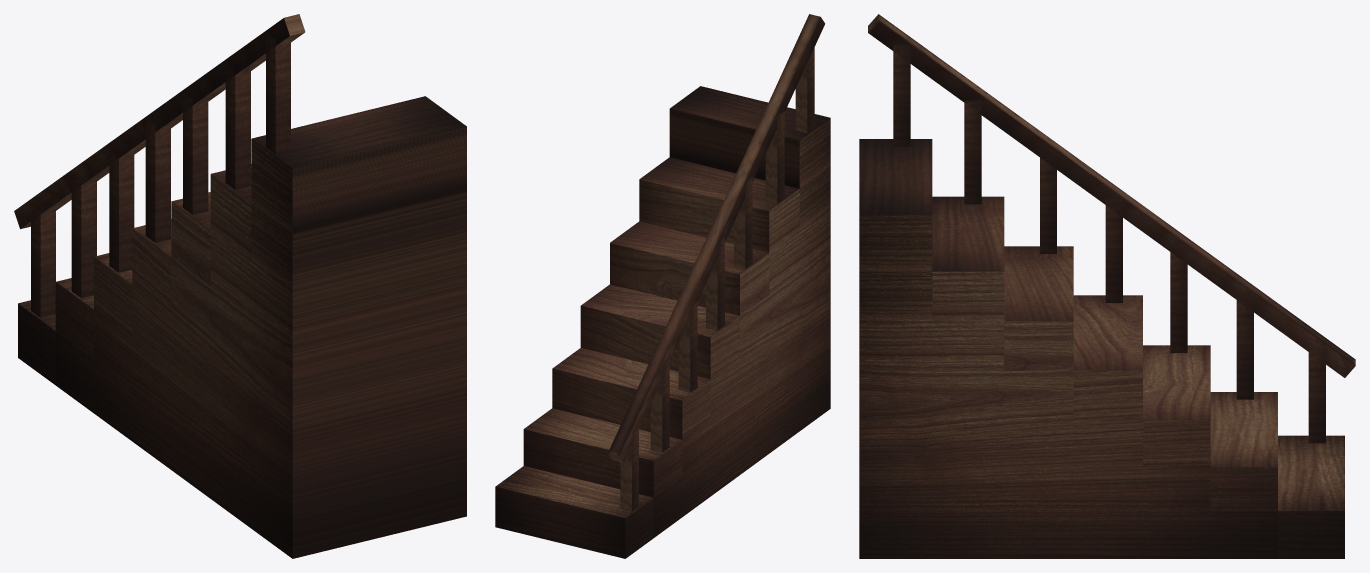
File: stairs.fbx
3 renders of one model, left to right at view 1: azimuth 30°, elevation 25°; view 2: azimuth 150°, elevation 25°; view 3: azimuth 270°, elevation 25°, orthographic. The views are drawn at different scales.
Visible parts, largest first — view 1: pCube10; view 2: pCube10; view 3: pCube10.
Part boxes in pixels (left/top/right/bottom): pCube10: left=14, top=14, right=466, bottom=558; pCube10: left=495, top=14, right=830, bottom=558; pCube10: left=859, top=14, right=1355, bottom=558.
Bounding box in the file's own units: 4.57 × 13.37 × 12.77.
